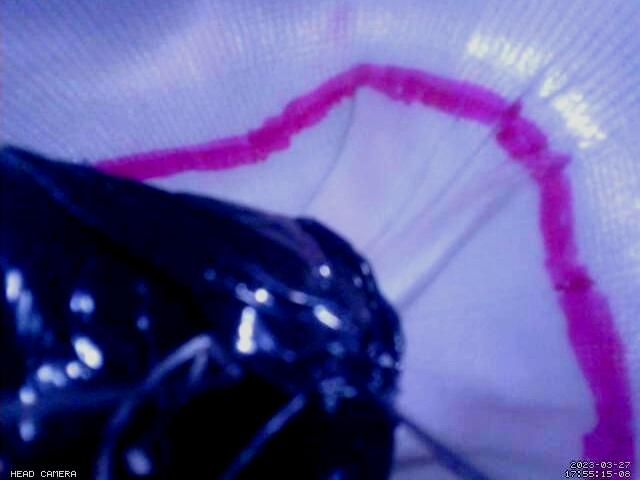red-circle: (91, 61, 638, 480)
